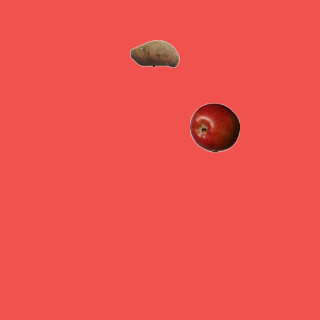Apple Braeburn: (189, 102, 239, 152)
Potato Sweet: (129, 28, 179, 78)
